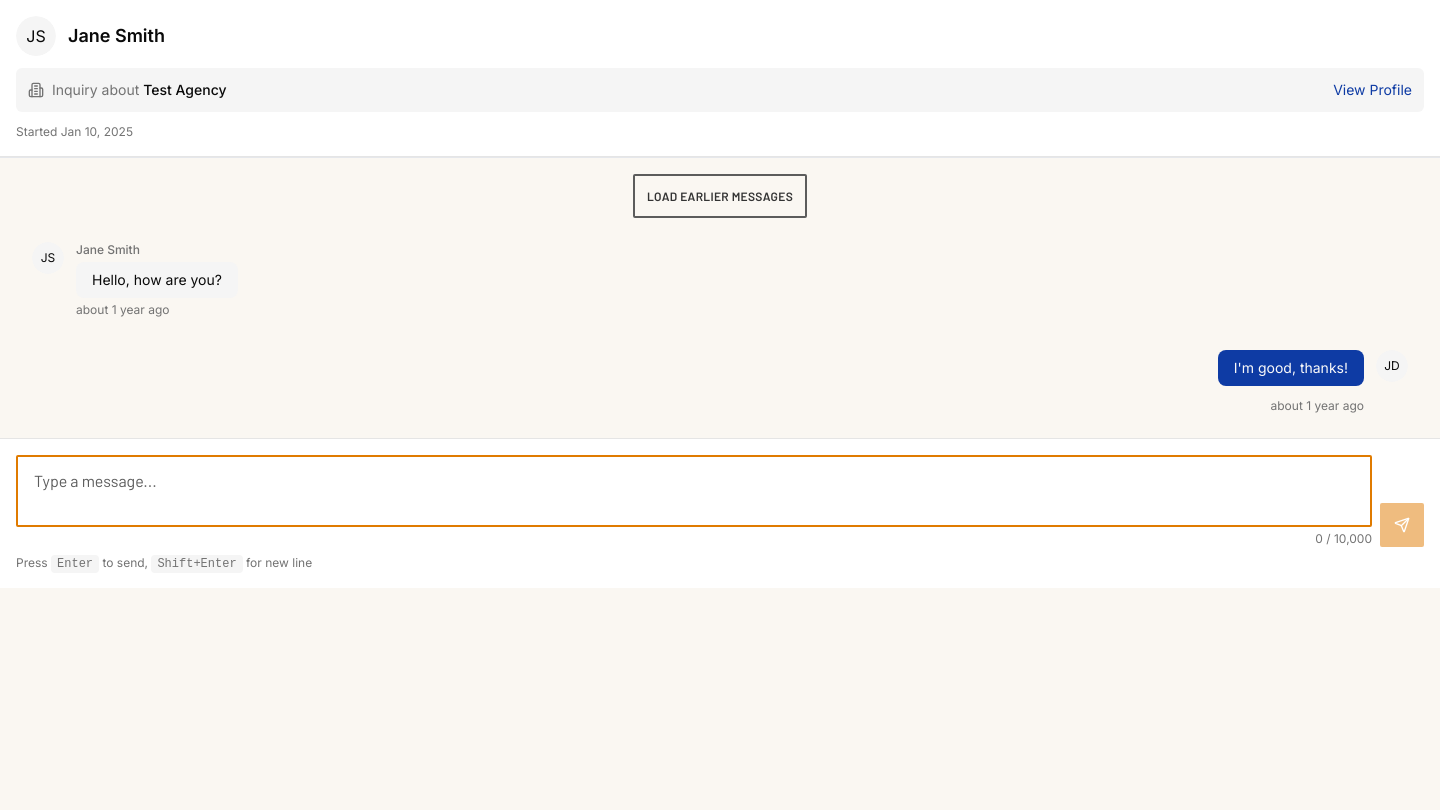
Test: ConversationThreadClient › Load Earlier Messages › should show loading state while fetching
The width and height of the screenshot is (1440, 810).
Click the button "Load Earlier Messages": [720, 196] box x1=633 y1=174 x2=807 y2=218
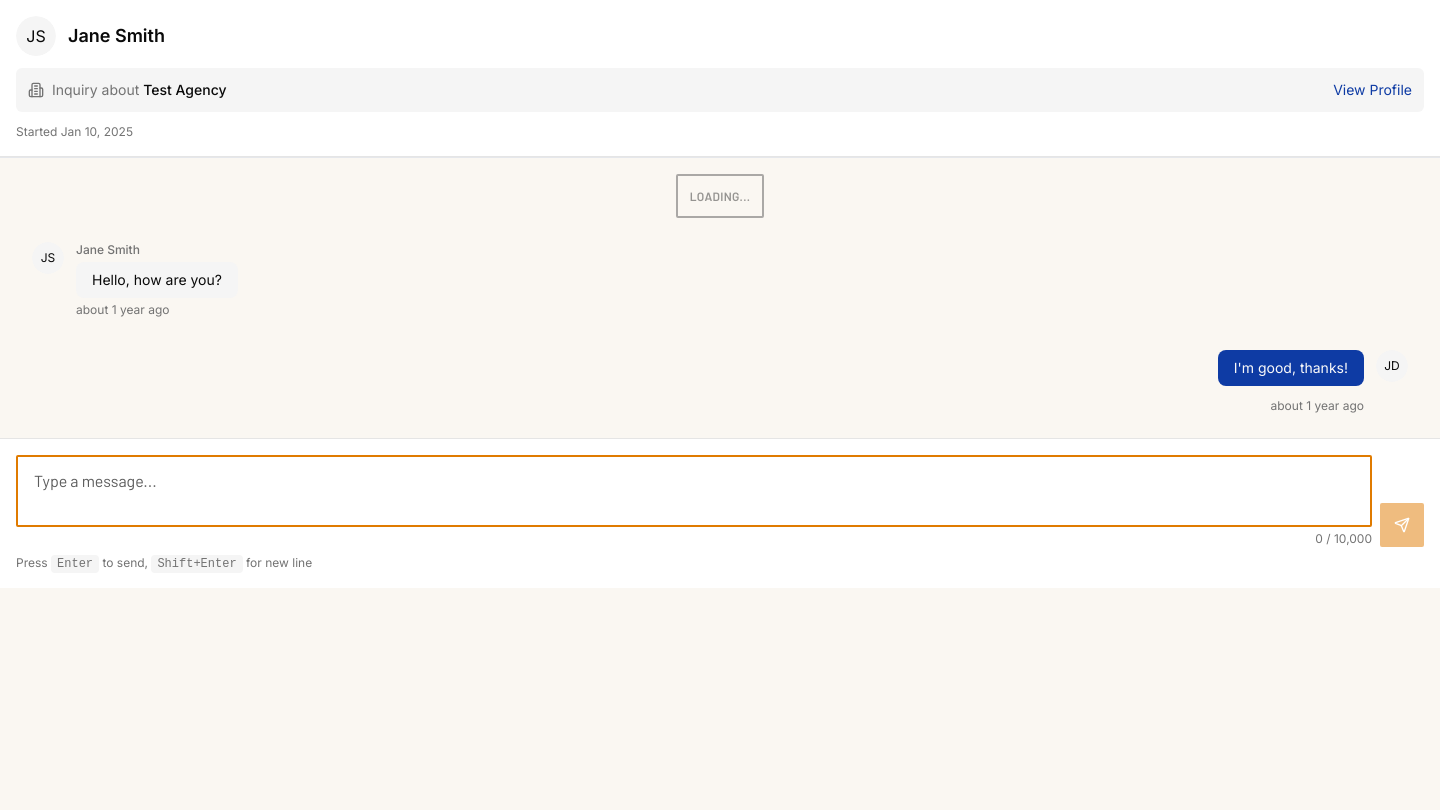
Now the button "Loading..." is shown, box x1=676 y1=174 x2=764 y2=218
